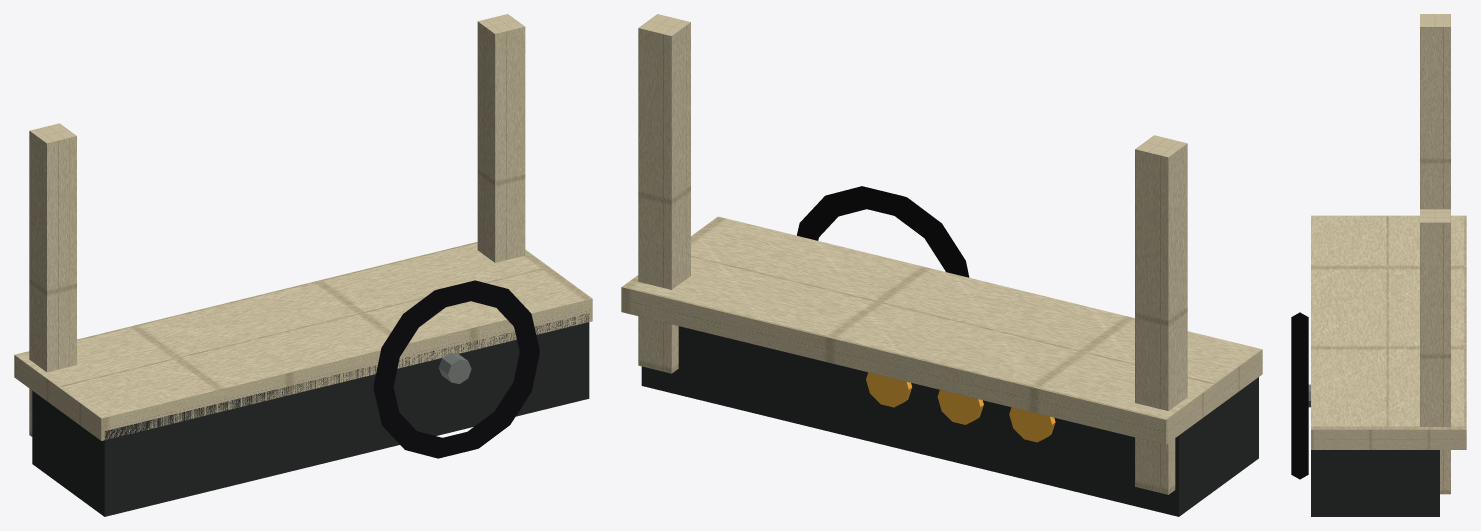
The model's file is rv_cockpit.obj.
The picture shows the model from 3 angles, left to right: view 1: azimuth 30°, elevation 25°; view 2: azimuth 150°, elevation 25°; view 3: azimuth 270°, elevation 25°; orthographic projection. The views are drawn at different scales.
Visible parts, largest first — view 1: DashTop, Dashboard, RightPillar, LeftPillar, SteeringWheel, SteeringColumn; view 2: DashTop, Dashboard, LeftPillar, RightPillar, SteeringWheel, Gauge; view 3: DashTop, Dashboard, RightPillar, LeftPillar, SteeringWheel.
Boxes of the visible parts, <box> form: DashTop: <box>14,242,592,440</box>; Dashboard: <box>32,313,589,516</box>; RightPillar: <box>477,14,525,262</box>; LeftPillar: <box>29,123,76,436</box>; SteeringWheel: <box>373,280,539,458</box>; SteeringColumn: <box>438,352,471,383</box>; DashTop: <box>621,216,1262,444</box>; Dashboard: <box>641,326,1258,516</box>; LeftPillar: <box>1135,135,1187,494</box>; RightPillar: <box>638,14,690,373</box>; SteeringWheel: <box>797,186,969,277</box>; Gauge: <box>866,372,1055,442</box>; DashTop: <box>1311,215,1466,449</box>; Dashboard: <box>1311,450,1439,516</box>; RightPillar: <box>1420,209,1450,494</box>; LeftPillar: <box>1420,14,1450,209</box>; SteeringWheel: <box>1291,312,1308,479</box>.
Size of the model in its own units: 2.28 by 1.53 by 0.789.
5 materials, 1 textured.
